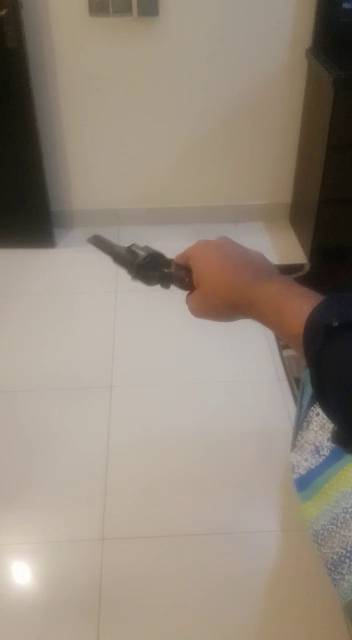handgun: (76, 223, 197, 315)
